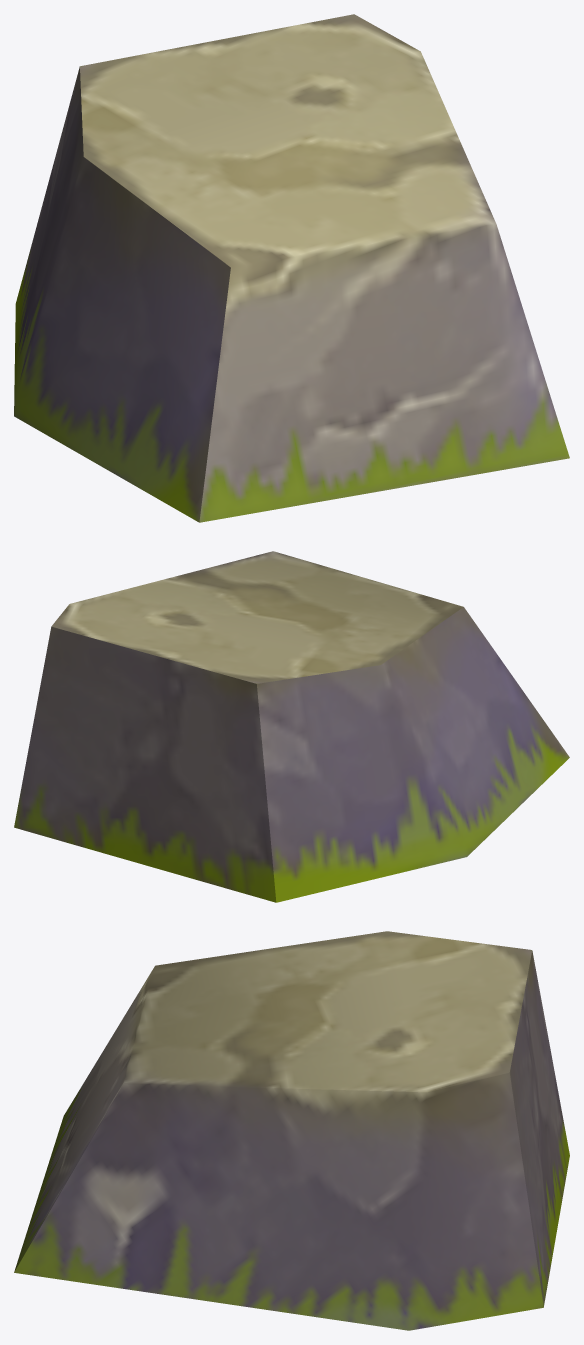
The model's file is scenes_construction_stone01.FBX.
3 renders of one model, top to bottom at view 1: azimuth 30°, elevation 25°; view 2: azimuth 150°, elevation 25°; view 3: azimuth 270°, elevation 25°, orthographic. The views are drawn at different scales.
Visible parts, largest first — view 1: scenes_construction_stone01; view 2: scenes_construction_stone01; view 3: scenes_construction_stone01.
Part boxes in pixels (box(x1,y1,x2,y2)): scenes_construction_stone01: box(14, 14, 569, 522); scenes_construction_stone01: box(14, 551, 569, 902); scenes_construction_stone01: box(14, 931, 569, 1330).
Size of the model in its own units: 264 by 122 by 272.
